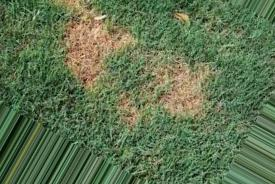patch: (154, 61, 202, 103), (81, 31, 115, 66), (118, 90, 142, 126), (57, 50, 79, 73), (66, 5, 93, 22), (83, 68, 102, 91), (58, 26, 78, 45), (120, 25, 134, 47), (139, 59, 150, 82)
